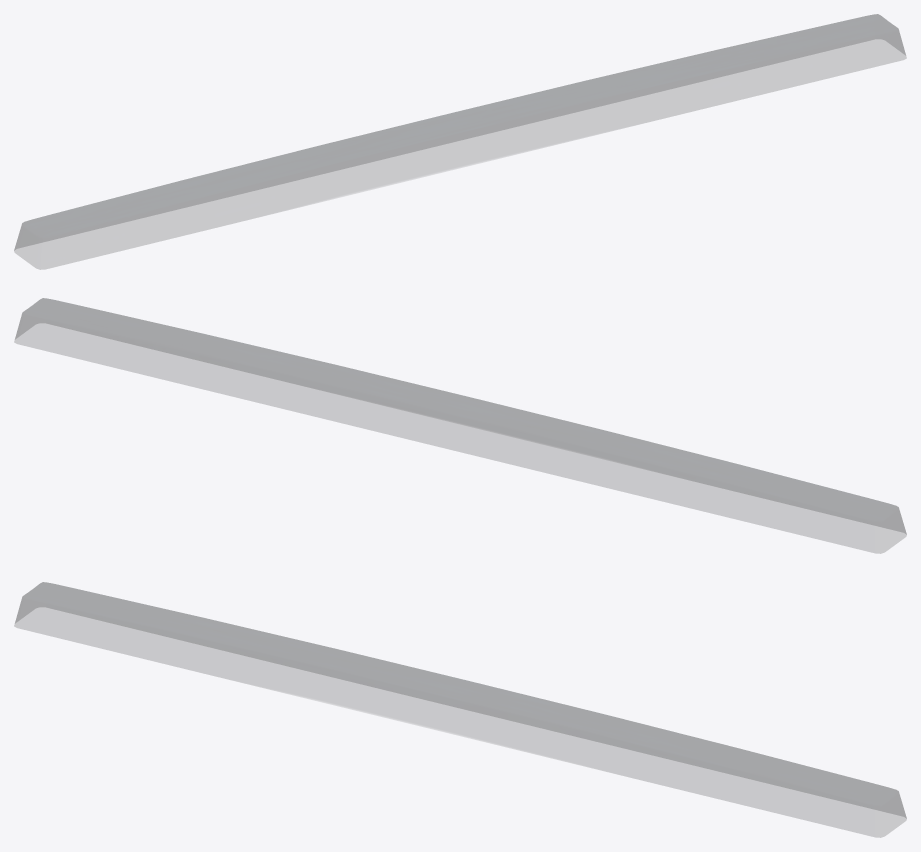
File: key_open.dae
3 renders of one model, top to bottom at view 1: azimuth 30°, elevation 25°; view 2: azimuth 150°, elevation 25°; view 3: azimuth 330°, elevation 25°, orthographic.
Visible parts, largest first — view 1: Mesh, Mesh_001; view 2: Mesh, Mesh_001; view 3: Mesh, Mesh_001.
Part boxes in pixels (x1,y1,x2,y2): Mesh: [15, 14, 905, 249]; Mesh_001: [15, 14, 904, 249]; Mesh: [15, 298, 905, 533]; Mesh_001: [16, 298, 905, 533]; Mesh: [15, 582, 905, 817]; Mesh_001: [16, 582, 905, 817].
Bounding box in the file's own units: 2.86 × 0.161 × 0.1039.
2 materials, 2 textured.
